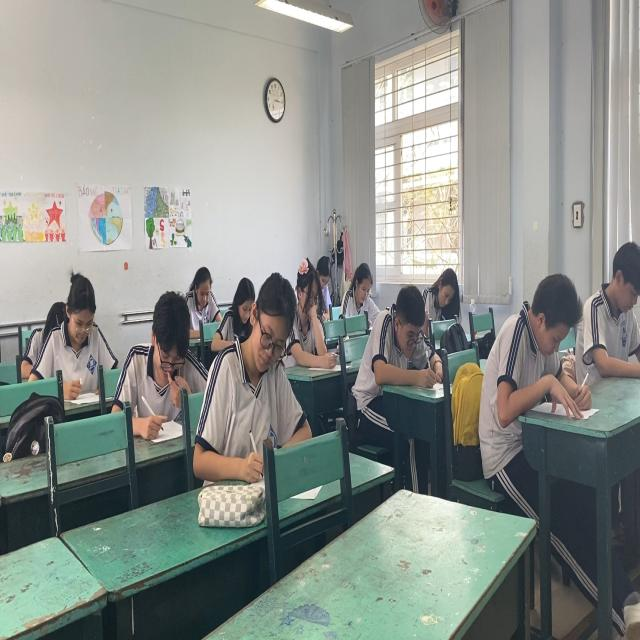not_cheating: (222, 267, 304, 443), (498, 261, 584, 409), (130, 291, 210, 430), (44, 267, 118, 384), (364, 278, 432, 378), (290, 254, 333, 363), (185, 264, 222, 336), (424, 268, 464, 322), (339, 260, 374, 315)
